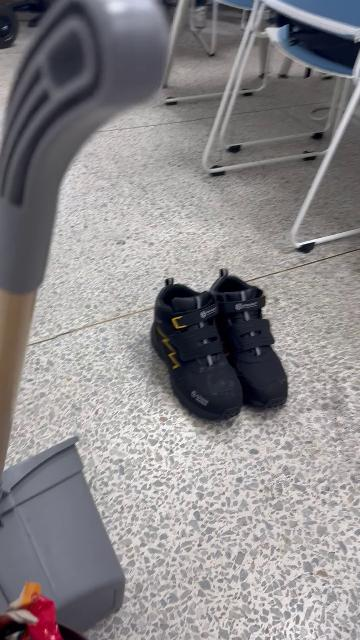shoe_worn: (153, 278, 242, 422), (208, 268, 289, 412)
